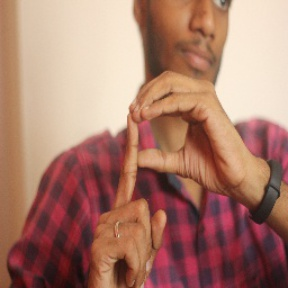P: (81, 68, 235, 280)
